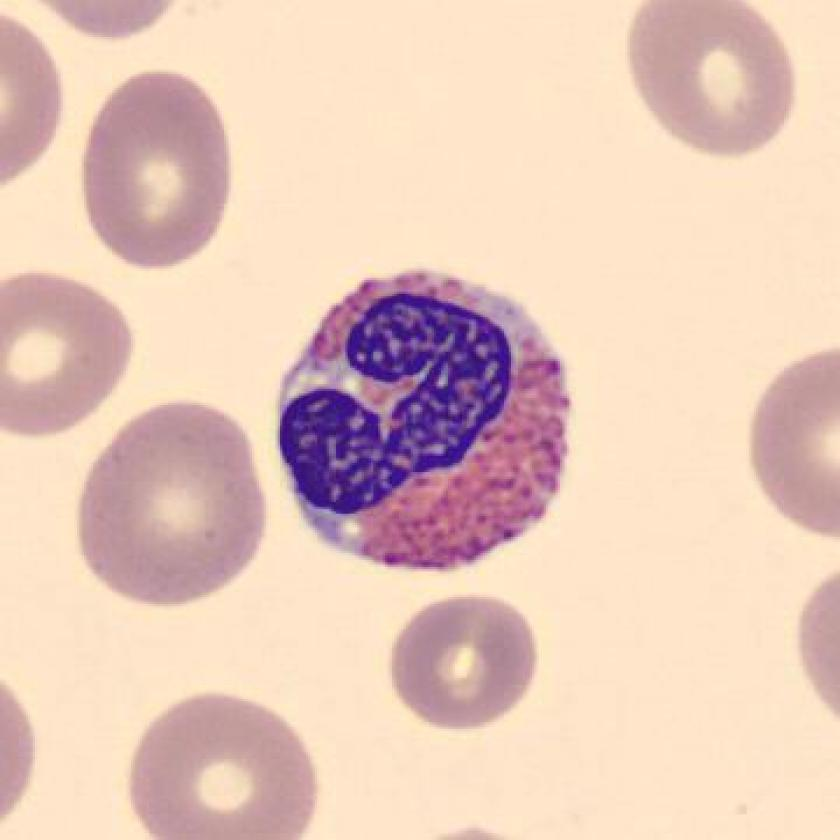eosinophil: (267, 262, 587, 582)
